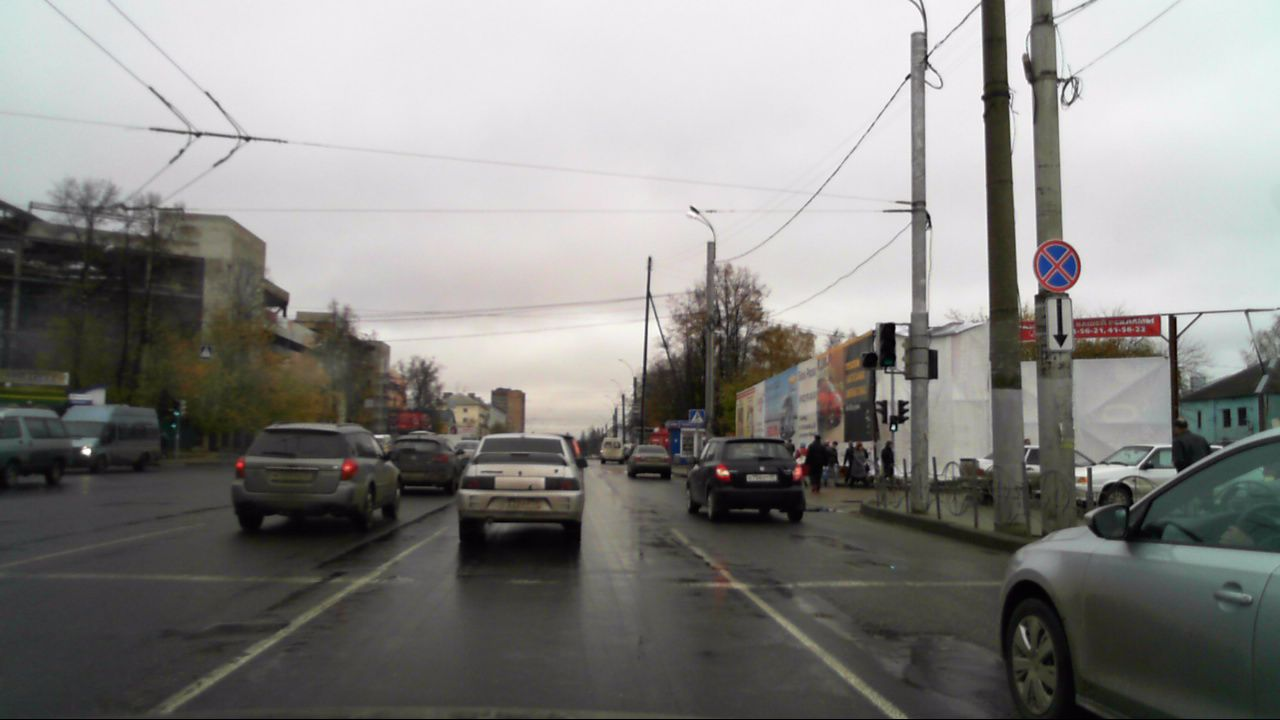No Parking: (1032, 239, 1082, 293)
